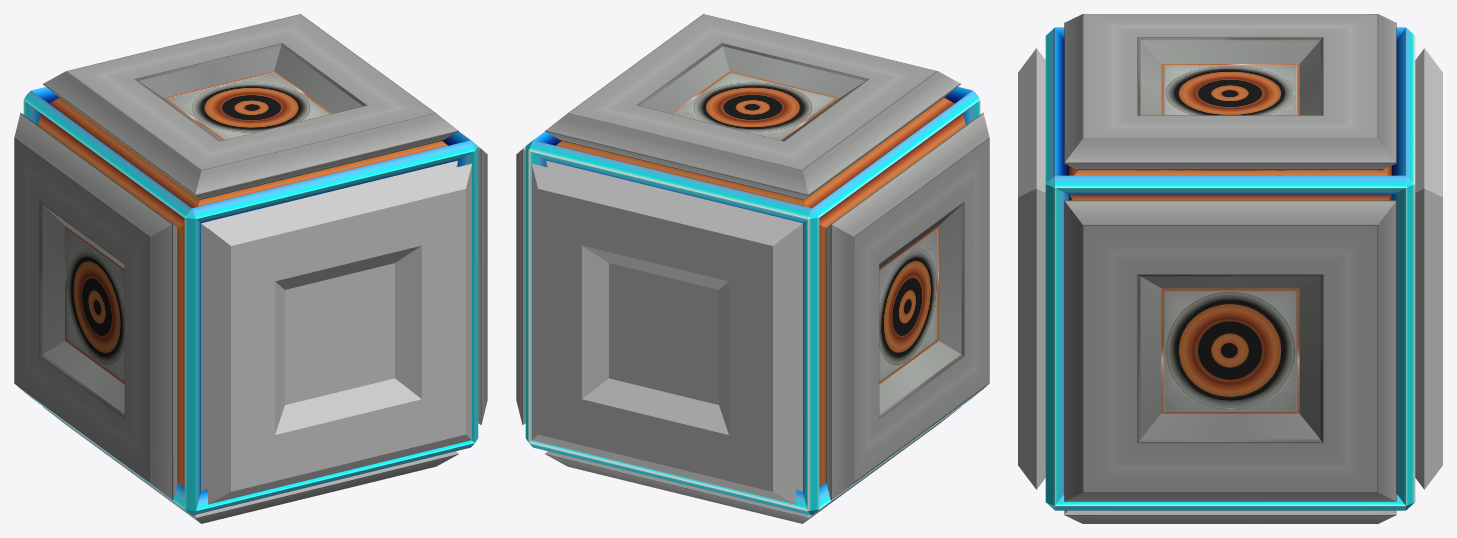
File: energy_extractor.obj
The picture shows the model from 3 angles, left to right: view 1: azimuth 30°, elevation 25°; view 2: azimuth 150°, elevation 25°; view 3: azimuth 270°, elevation 25°; orthographic projection. The views are drawn at different scales.
Visible parts, largest first — view 1: Cube.001, Cube.002, Cube.000, Cube.003_Cube.004; view 2: Cube.001, Cube.002, Cube.000, Cube.003_Cube.004; view 3: Cube.002, Cube.000, Cube.003_Cube.004, Cube.001.
Boxes of the visible parts, bbox=[...] form: Cube.001: bbox=[82, 113, 471, 504]; Cube.002: bbox=[14, 112, 487, 500]; Cube.000: bbox=[43, 14, 458, 523]; Cube.003_Cube.004: bbox=[23, 87, 478, 515]; Cube.001: bbox=[532, 113, 921, 504]; Cube.002: bbox=[516, 112, 989, 500]; Cube.000: bbox=[545, 14, 960, 523]; Cube.003_Cube.004: bbox=[525, 87, 980, 515]; Cube.002: bbox=[1064, 170, 1396, 501]; Cube.000: bbox=[1064, 14, 1396, 523]; Cube.003_Cube.004: bbox=[1045, 27, 1415, 510]; Cube.001: bbox=[1018, 48, 1442, 489].
Size of the model in its own units: 0.92 by 0.92 by 0.92.
